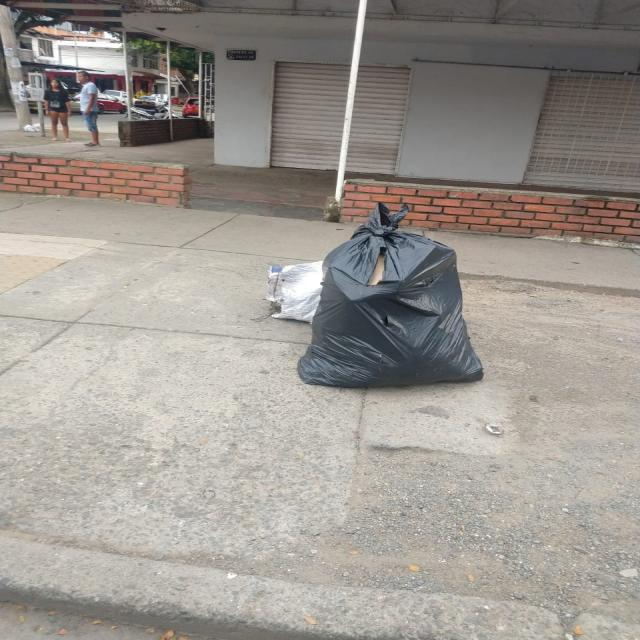Trashbag: (301, 207, 488, 406)
